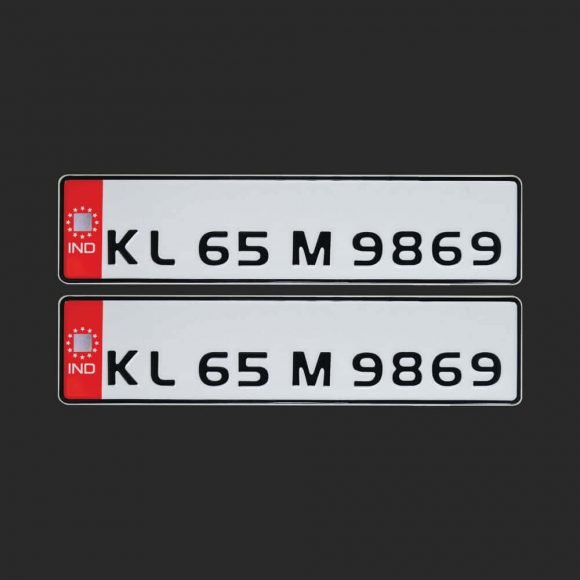number_plate: (55, 294, 525, 409), (55, 172, 523, 287)
